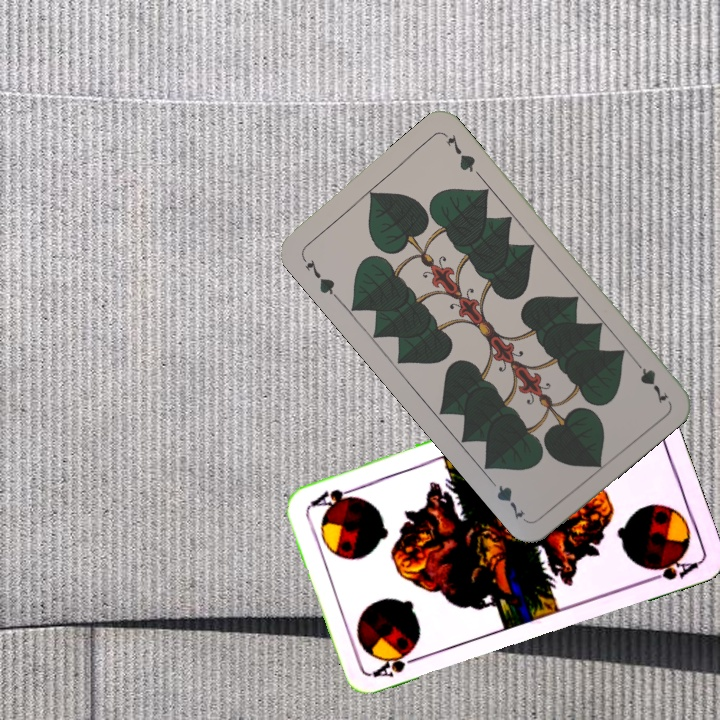G7: (628, 353, 672, 406), (298, 252, 341, 302)
SA: (369, 651, 426, 680)
